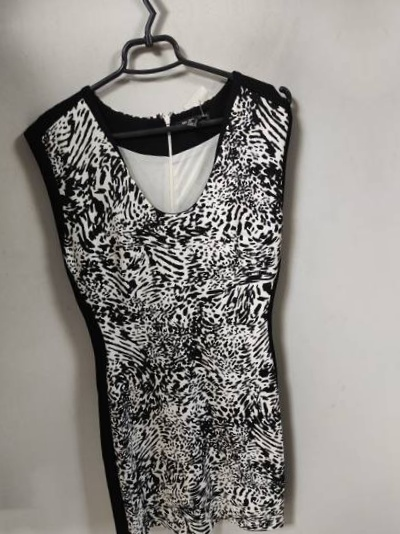Dress: (0, 32, 340, 534)
